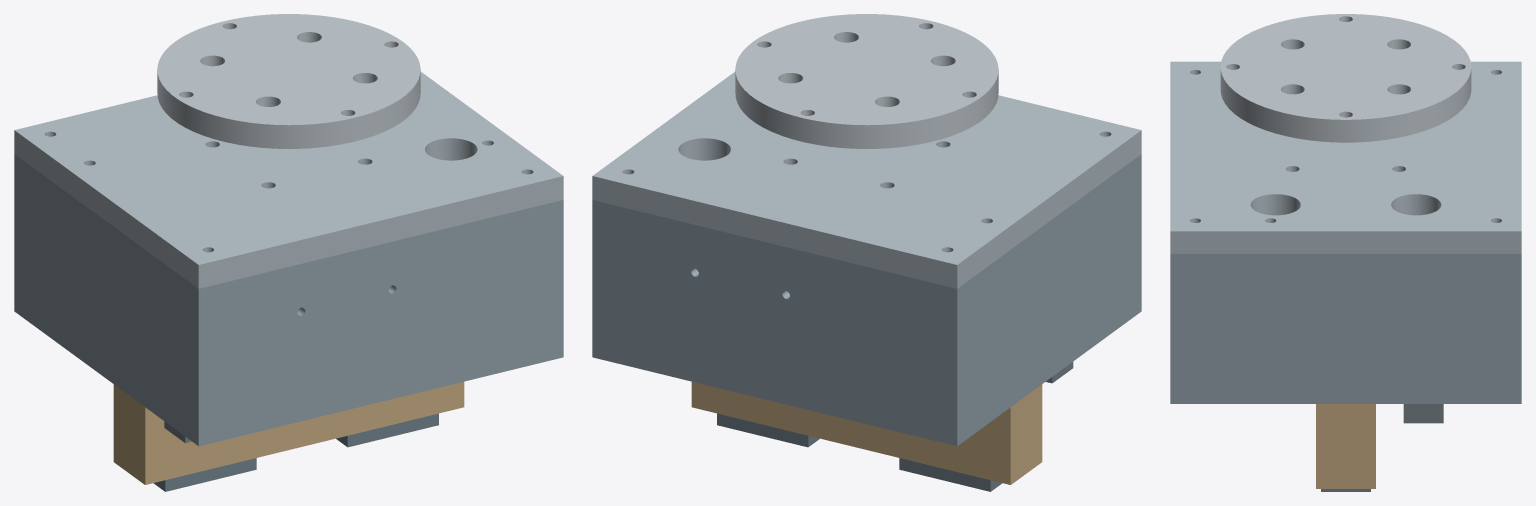
Rendered from TOOL03_machined_parts_in_place.glb.
3 views of the same model, side by side, from view 1: azimuth 30°, elevation 25°; view 2: azimuth 150°, elevation 25°; view 3: azimuth 270°, elevation 25° (orthographic). The views are drawn at different scales.
Visible parts, largest first — view 1: 001_03-002_housing_body, 002_03-003_top_plate_t10, 012_03-011_loadcell_adapter_plate, 000_03-001_nose_PEEK, 006_03-007_cup_bracket, 007_03-007_cup_bracket; view 2: 001_03-002_housing_body, 002_03-003_top_plate_t10, 012_03-011_loadcell_adapter_plate, 000_03-001_nose_PEEK, 006_03-007_cup_bracket, 007_03-007_cup_bracket; view 3: 001_03-002_housing_body, 002_03-003_top_plate_t10, 012_03-011_loadcell_adapter_plate, 000_03-001_nose_PEEK, 011_03-010_nozzle_block.
Boxes of the visible parts, <box> form: 001_03-002_housing_body: <box>14,154,563,446</box>; 002_03-003_top_plate_t10: <box>14,72,563,288</box>; 012_03-011_loadcell_adapter_plate: <box>157,14,420,148</box>; 000_03-001_nose_PEEK: <box>113,381,464,484</box>; 006_03-007_cup_bracket: <box>153,458,256,491</box>; 007_03-007_cup_bracket: <box>336,413,438,447</box>; 001_03-002_housing_body: <box>592,154,1141,446</box>; 002_03-003_top_plate_t10: <box>592,72,1141,288</box>; 012_03-011_loadcell_adapter_plate: <box>735,14,998,148</box>; 000_03-001_nose_PEEK: <box>691,381,1042,484</box>; 006_03-007_cup_bracket: <box>899,458,1002,491</box>; 007_03-007_cup_bracket: <box>717,413,819,447</box>; 001_03-002_housing_body: <box>1170,254,1521,403</box>; 002_03-003_top_plate_t10: <box>1170,61,1521,253</box>; 012_03-011_loadcell_adapter_plate: <box>1220,14,1471,142</box>; 000_03-001_nose_PEEK: <box>1316,404,1375,488</box>; 011_03-010_nozzle_block: <box>1403,404,1443,423</box>.
Bounding box in the file's own units: 0.16 × 0.159 × 0.14.
